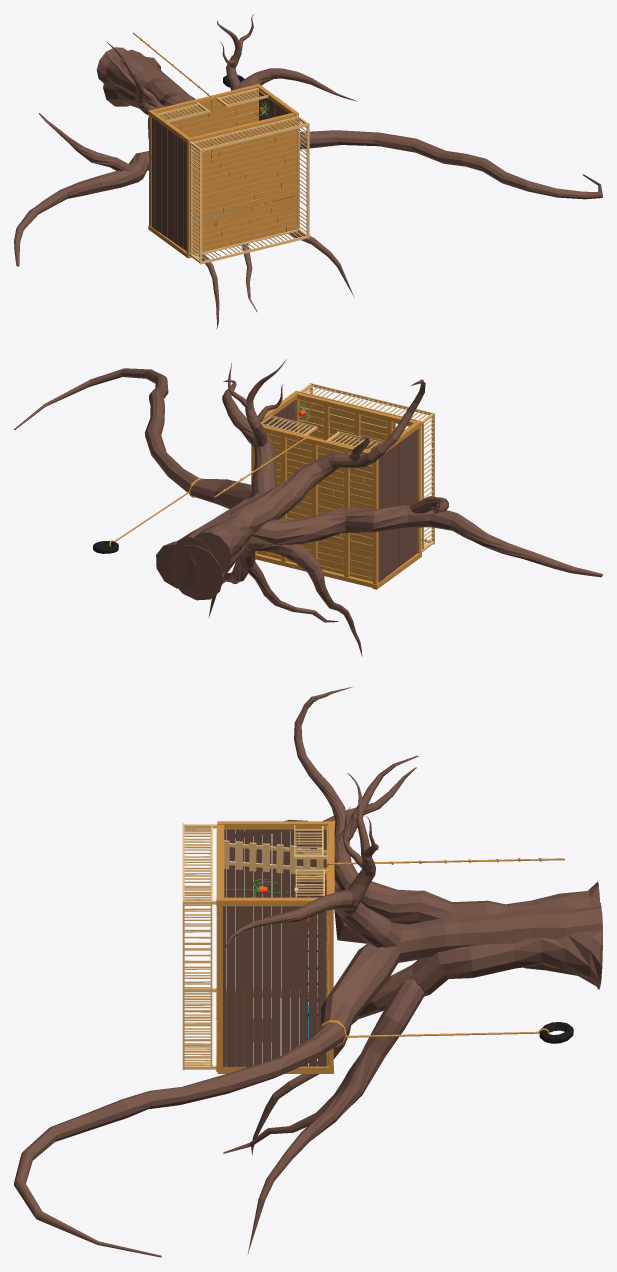
3 views of the same model, one above another, from view 1: azimuth 30°, elevation 25°; view 2: azimuth 150°, elevation 25°; view 3: azimuth 270°, elevation 25° (orthographic). The views are drawn at different scales.
Visible parts, largest first — view 1: Object.1; view 2: Object.1; view 3: Object.1.
Boxes of the visible parts, x1,y1,x2,y2 form: Object.1: [14, 14, 602, 328]; Object.1: [14, 359, 602, 656]; Object.1: [14, 686, 602, 1257].
Size of the model in its own units: 17718 by 8847 by 11341.
